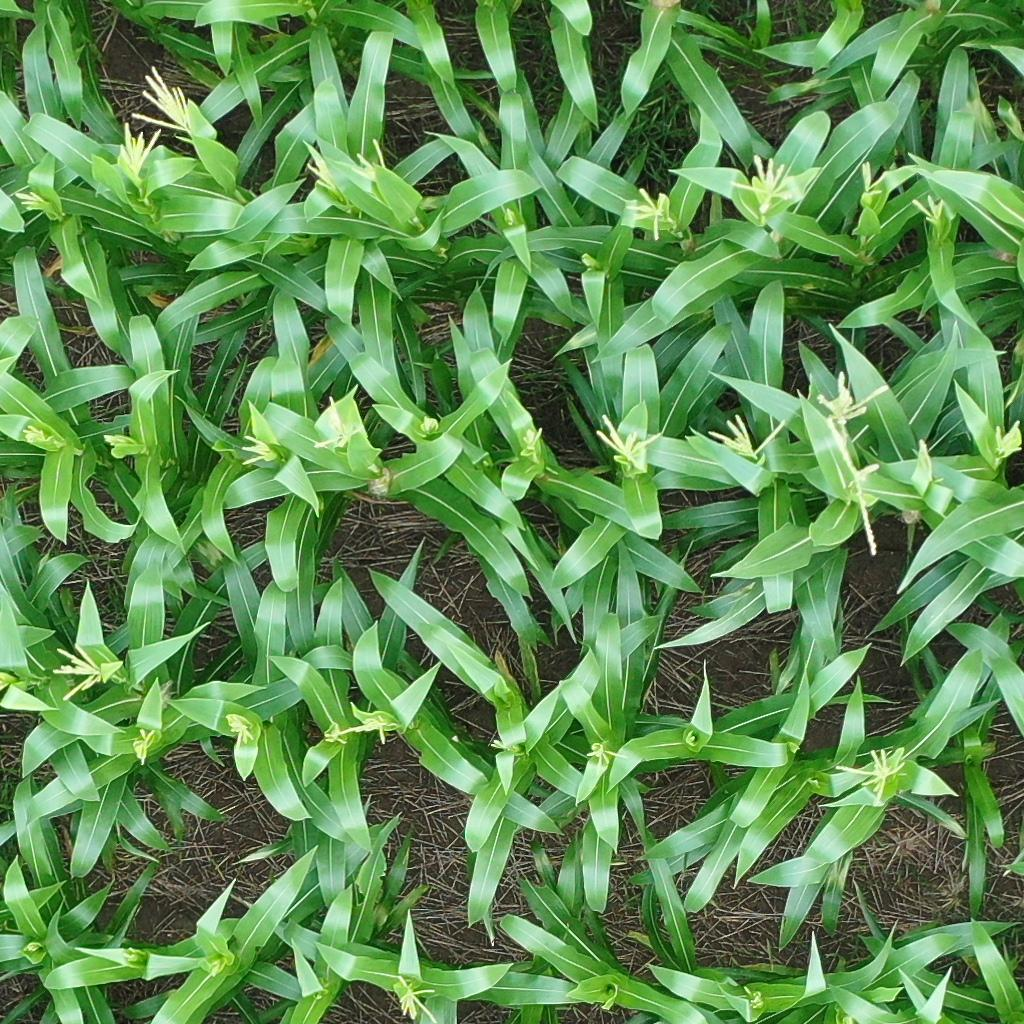Tassel: (826, 419, 882, 556), (129, 65, 195, 131), (593, 412, 664, 473), (833, 748, 905, 807), (732, 156, 801, 214), (817, 371, 890, 425), (704, 415, 787, 462), (49, 645, 103, 701), (117, 122, 162, 179), (313, 396, 360, 447), (392, 975, 439, 1024), (626, 187, 670, 238), (347, 140, 390, 184), (302, 140, 336, 188), (351, 713, 400, 746), (989, 417, 1024, 458), (908, 192, 944, 231), (915, 437, 937, 483), (230, 715, 257, 751), (239, 435, 270, 466), (588, 744, 629, 765), (132, 729, 155, 765), (12, 190, 47, 208), (324, 724, 352, 746), (861, 163, 878, 197), (21, 424, 49, 444), (522, 426, 543, 451), (101, 434, 129, 447), (422, 415, 439, 434), (490, 739, 514, 752), (208, 955, 221, 979), (748, 991, 763, 1010), (123, 946, 137, 962), (504, 208, 517, 225), (25, 943, 42, 953)
